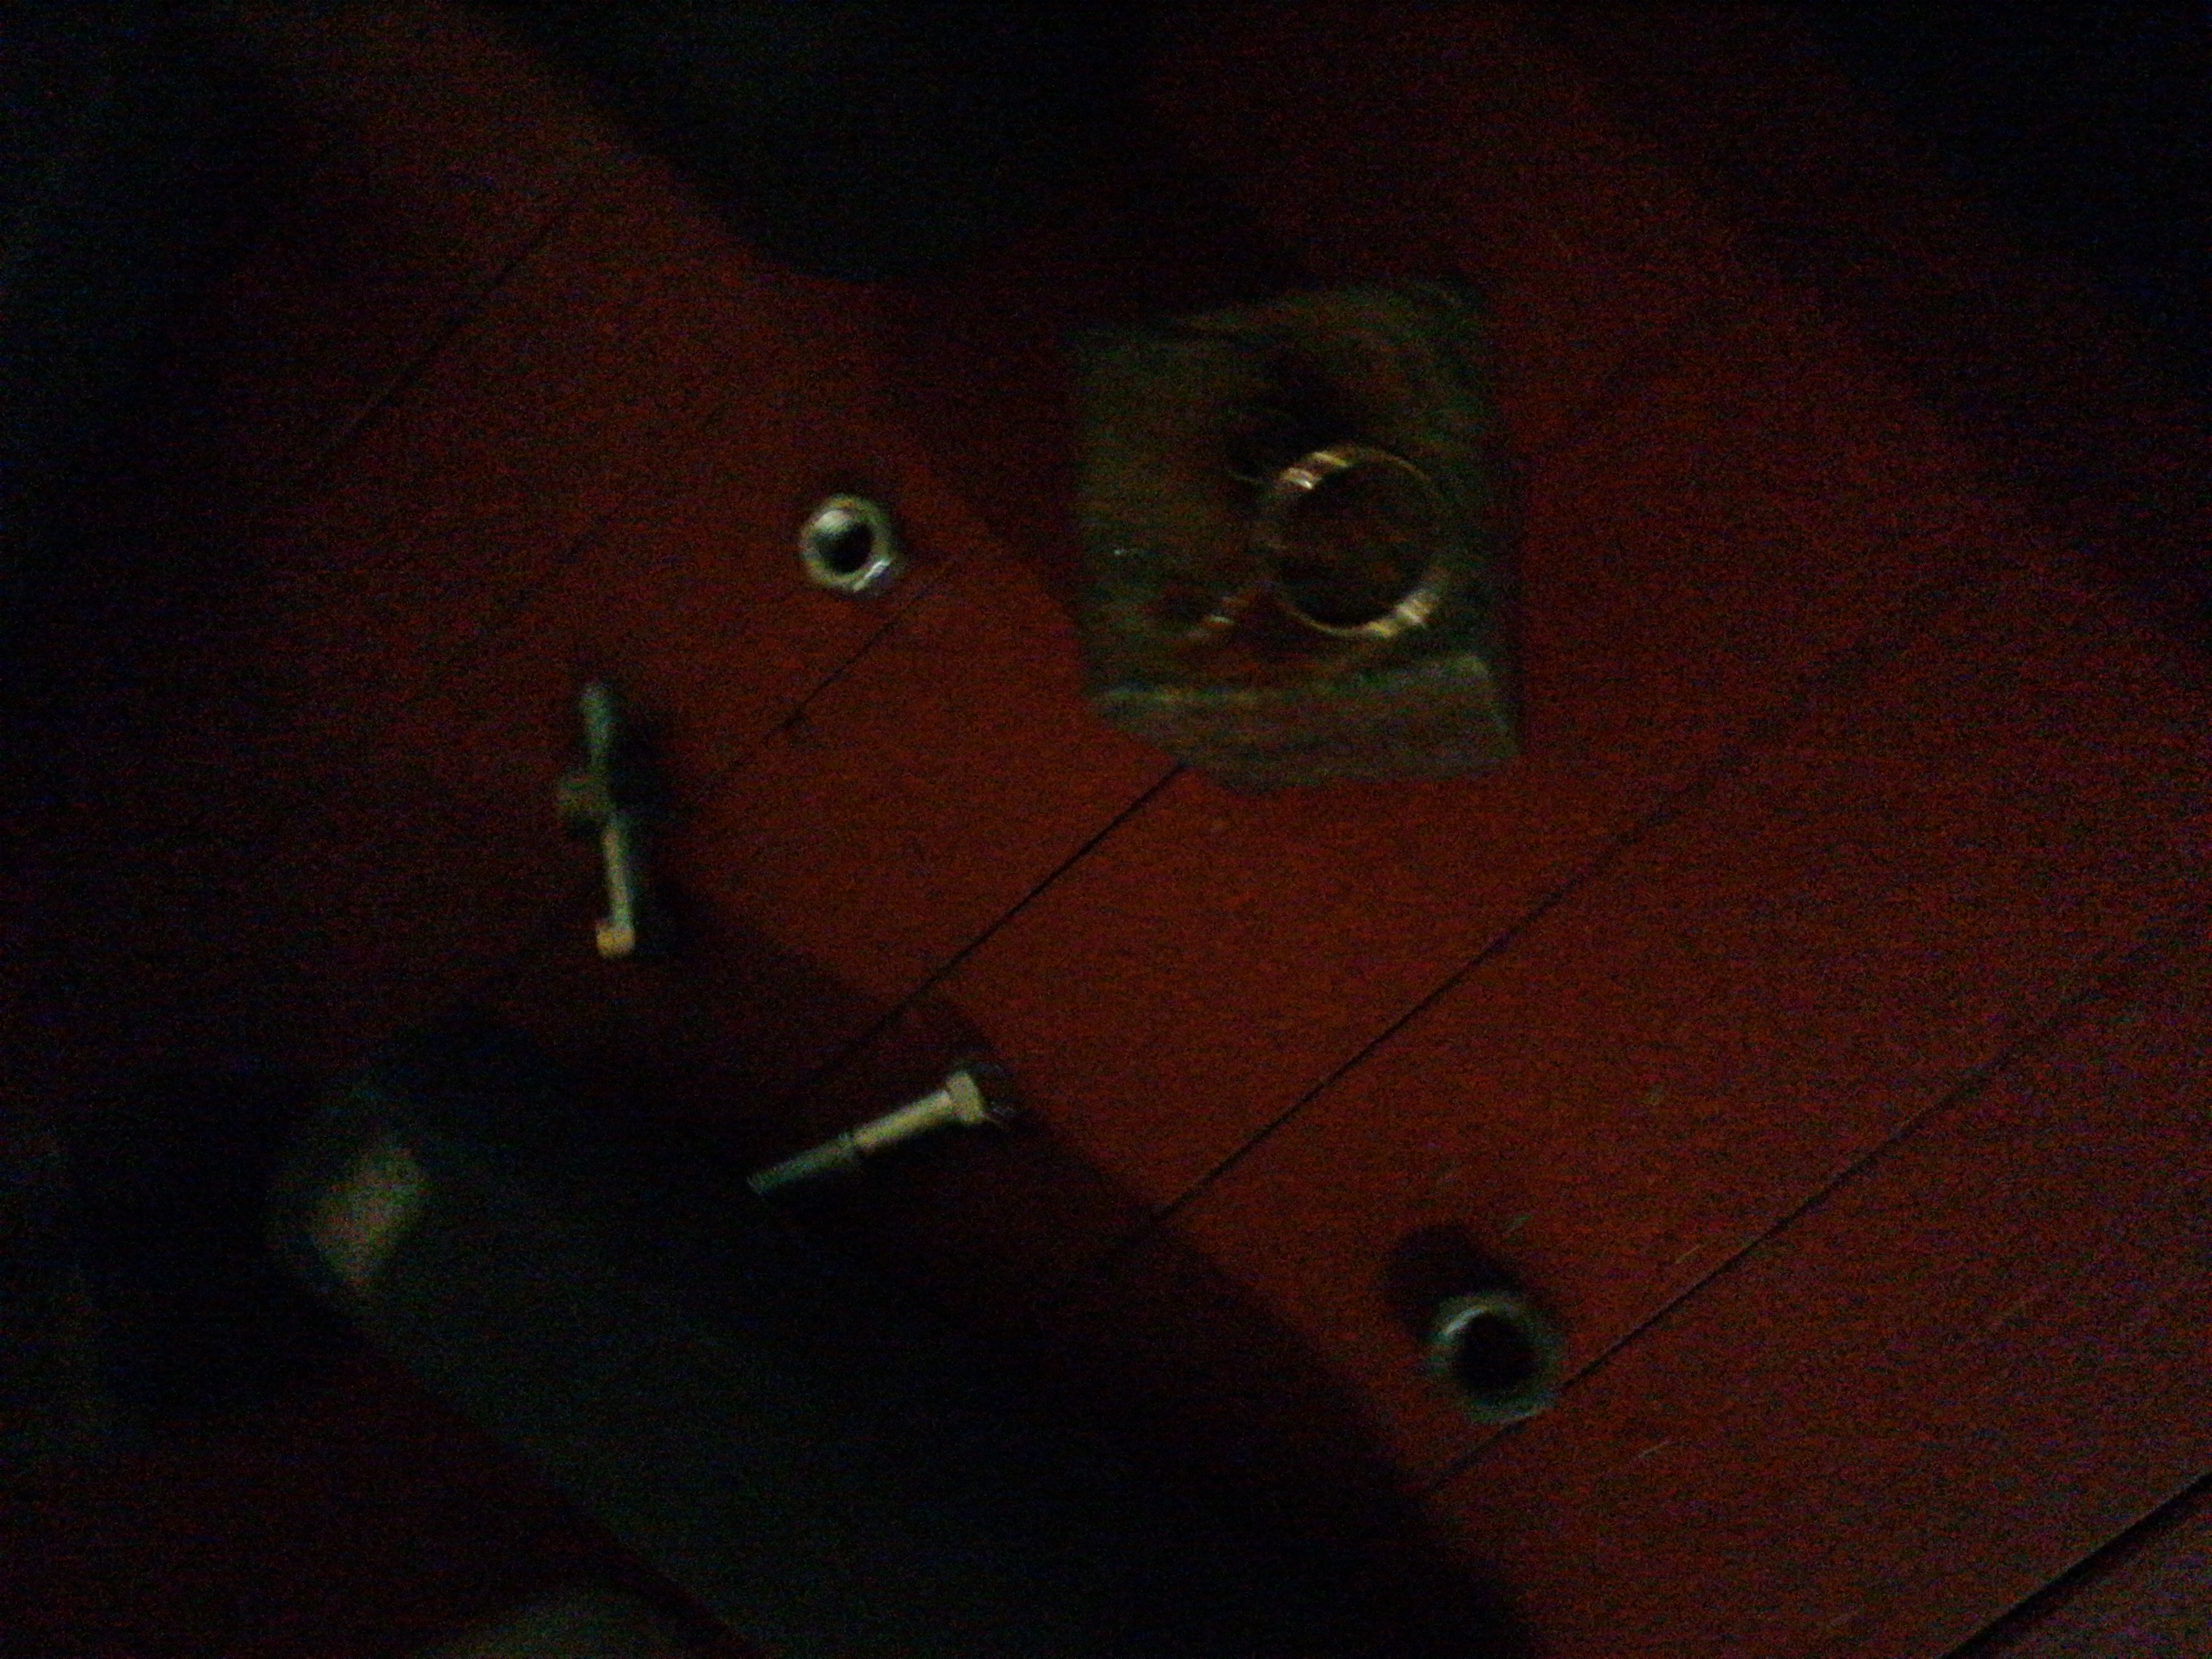bolt: (747, 1054, 1035, 1190), (577, 671, 664, 964)
led_block: (1061, 275, 1538, 786), (0, 1089, 300, 1469)
nut: (1418, 1286, 1569, 1434), (787, 490, 909, 605), (549, 751, 662, 828)
pipe: (253, 1028, 1305, 1659), (503, 0, 1101, 284)
